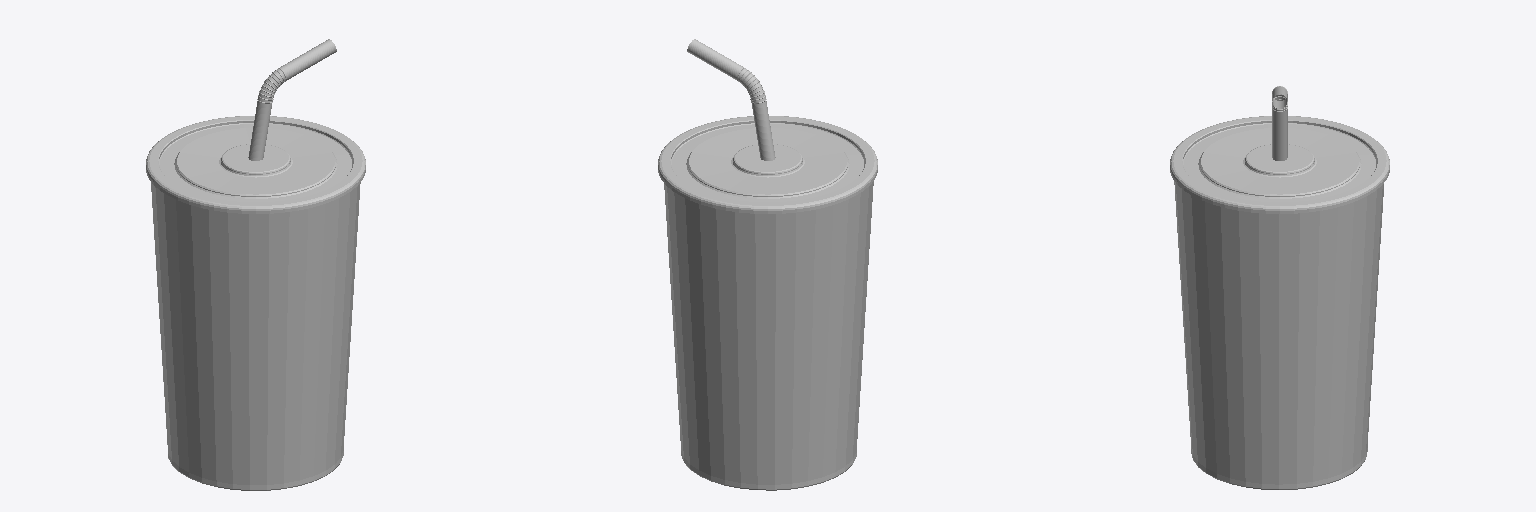
The model's file is cup.obj.
The picture shows the model from 3 angles: view 1: azimuth 30°, elevation 25°; view 2: azimuth 150°, elevation 25°; view 3: azimuth 270°, elevation 25°; orthographic projection.
Parts seen in each view (by area): view 1: cup, straw; view 2: cup, straw; view 3: cup, straw.
Part boxes in pixels (bbox=[...]): cup: bbox=[146, 116, 365, 490]; straw: bbox=[248, 39, 336, 160]; cup: bbox=[658, 116, 877, 490]; straw: bbox=[687, 39, 775, 160]; cup: bbox=[1170, 116, 1389, 489]; straw: bbox=[1272, 86, 1287, 160].
Size of the model in its own units: 0.112 by 0.2219 by 0.112.